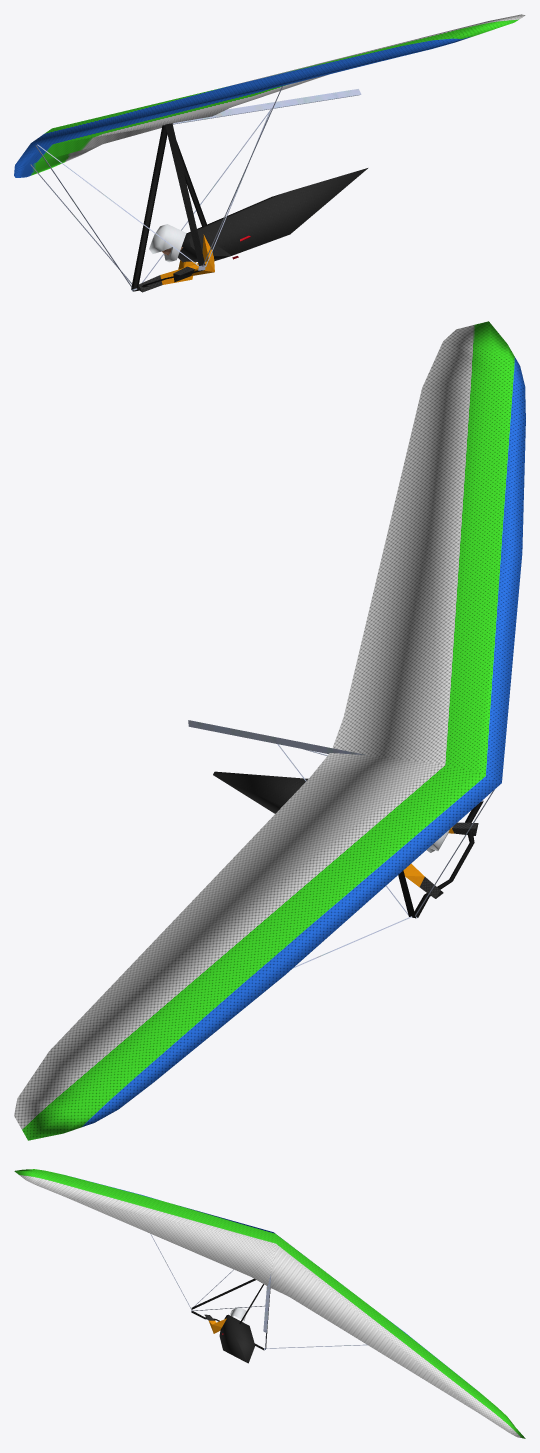
File: hang-glider-green-thermal-cbj_LOD03.gltf
The picture shows the model from 3 angles, top to bottom: view 1: azimuth 30°, elevation 25°; view 2: azimuth 150°, elevation 25°; view 3: azimuth 270°, elevation 25°; orthographic projection. The views are drawn at different scales.
Parts seen in each view (by area): view 1: hang-glider00; view 2: hang-glider00; view 3: hang-glider00.
Part boxes in pixels (box(x1,y1,x2,y2)): hang-glider00: box(14, 14, 525, 292); hang-glider00: box(14, 321, 525, 1140); hang-glider00: box(14, 1169, 525, 1438).
Size of what is drawn, in the model's own units: 3.49 by 5.03 by 8.71.
